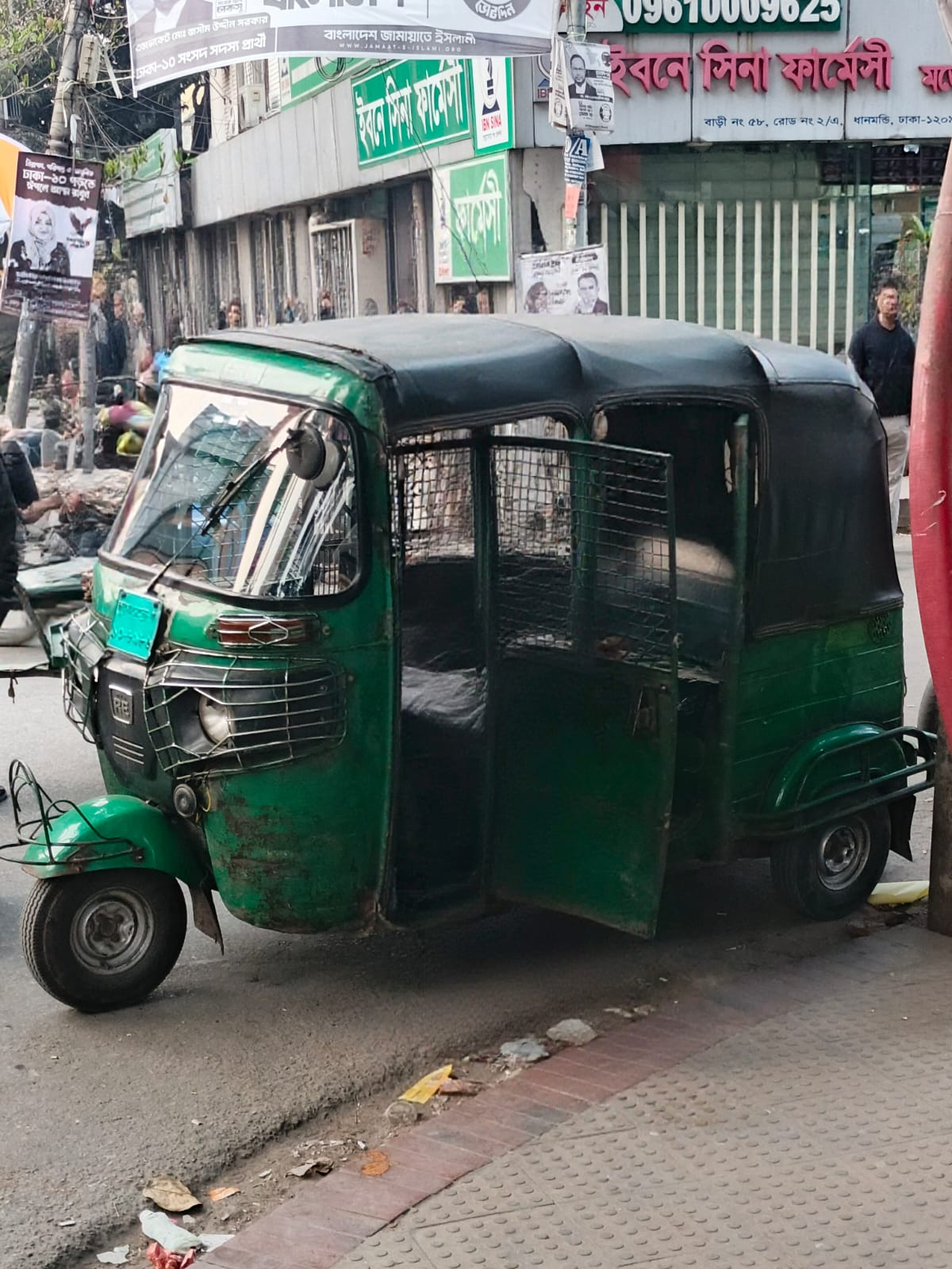cng: (32, 283, 947, 1023)
